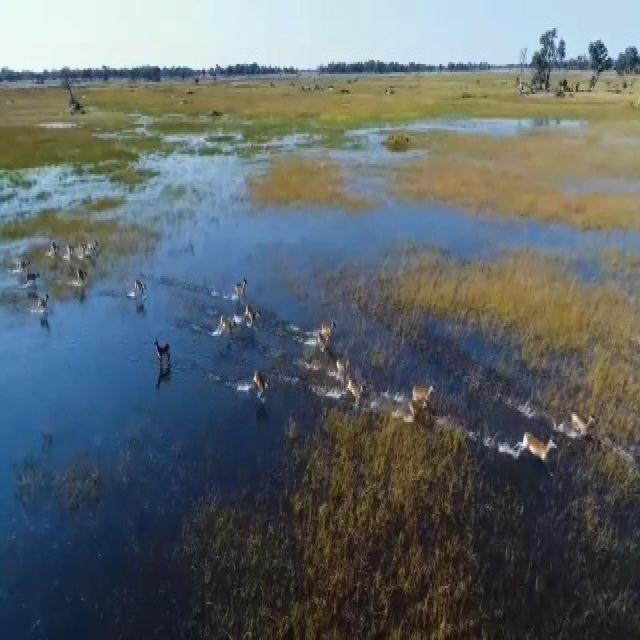Deer: (520, 429, 564, 473), (404, 379, 444, 417), (558, 410, 599, 445), (152, 332, 175, 371), (252, 362, 272, 404), (344, 377, 368, 408), (244, 304, 266, 332), (134, 274, 152, 306), (233, 276, 256, 301), (320, 320, 337, 352), (334, 356, 352, 384), (222, 312, 234, 344), (48, 236, 62, 260), (16, 254, 31, 276), (75, 266, 87, 293), (38, 294, 52, 316), (88, 243, 103, 263), (69, 242, 79, 260)
